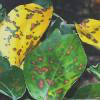Apple rust leaf: (24, 30, 88, 99), (0, 4, 59, 70), (71, 15, 100, 50)
